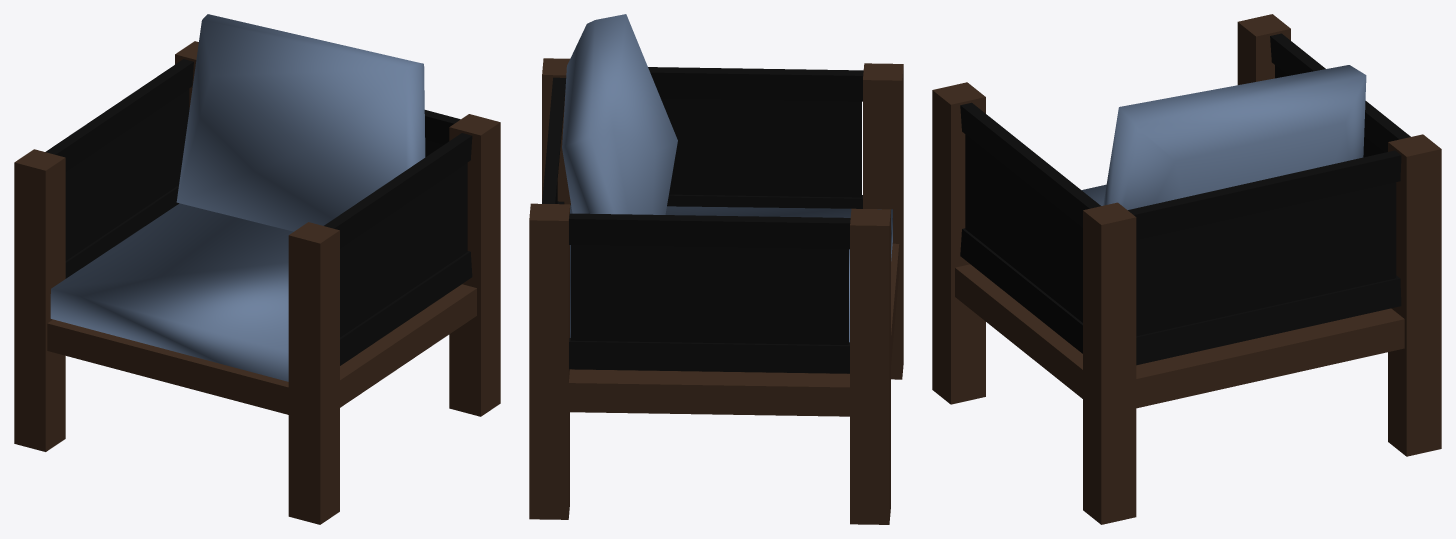
File: bay-lounge-chair.lod1.glb
3 renders of one model, left to right at view 1: azimuth 30°, elevation 25°; view 2: azimuth 150°, elevation 25°; view 3: azimuth 270°, elevation 25°, orthographic. The views are drawn at different scales.
Visible parts, largest first — view 1: LoungeChair_LeatherWeave_0; view 2: LoungeChair_LeatherWeave_0; view 3: LoungeChair_LeatherWeave_0.
Part boxes in pixels (x1,y1,x2,y2): LoungeChair_LeatherWeave_0: [14, 14, 500, 524]; LoungeChair_LeatherWeave_0: [529, 14, 903, 524]; LoungeChair_LeatherWeave_0: [932, 14, 1441, 524].
Size of the model in its own units: 1.03 by 0.849 by 1.05.
